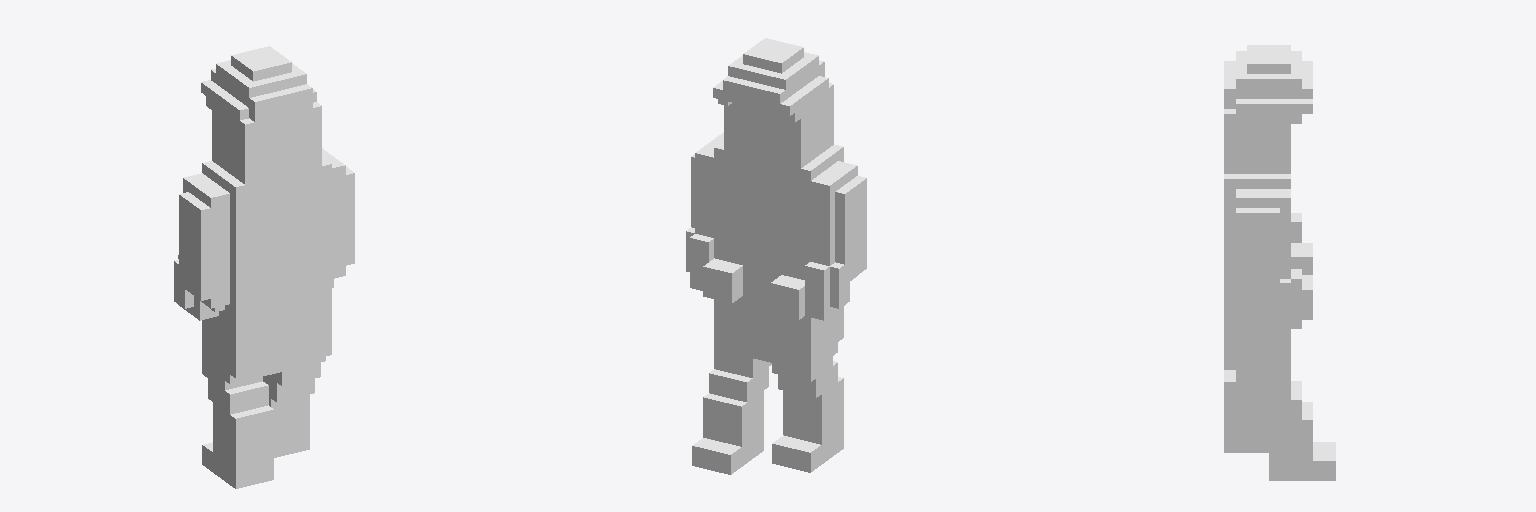
The model's file is player-8.obj.
3 renders of one model, left to right at view 1: azimuth 30°, elevation 25°; view 2: azimuth 150°, elevation 25°; view 3: azimuth 270°, elevation 25°, orthographic.
Visible parts, largest first — view 1: object 1; view 2: object 1; view 3: object 1.
Boxes of the visible parts, x1=… form: object 1: x1=174, y1=46, x2=354, y2=488; object 1: x1=686, y1=38, x2=866, y2=474; object 1: x1=1224, y1=45, x2=1335, y2=480.
Bounding box in the file's own units: 1.6 × 4 × 1.